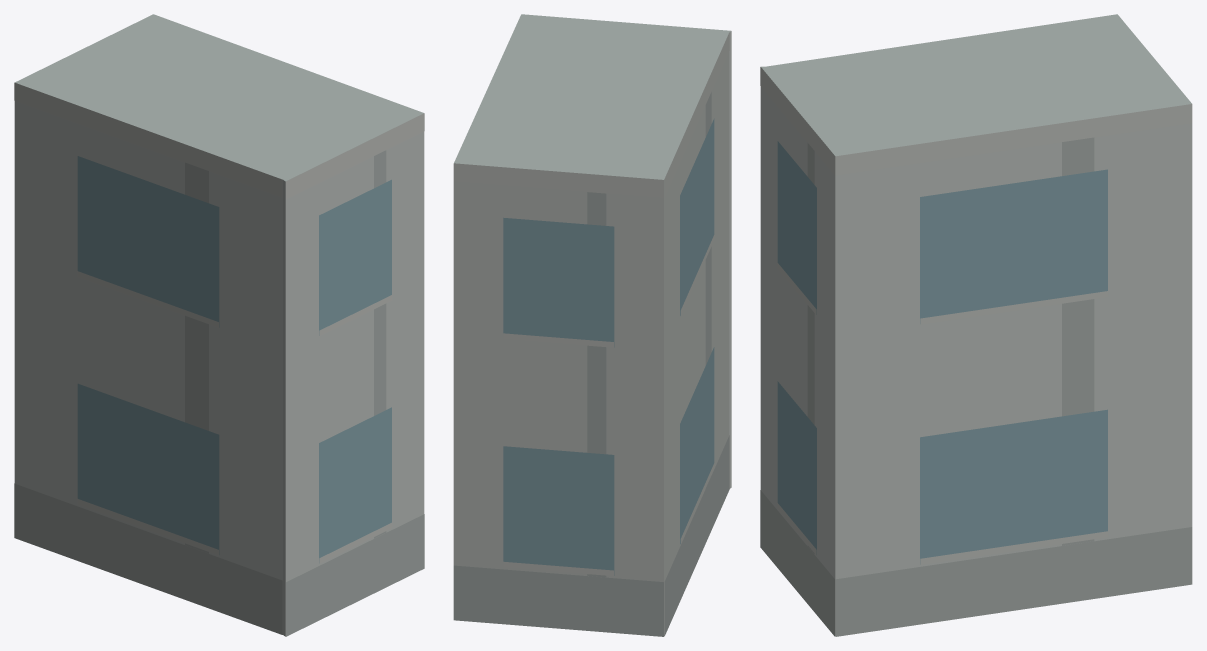
File: survey-upis-32709111.glb
The picture shows the model from 3 angles, left to right: view 1: azimuth 30°, elevation 25°; view 2: azimuth 150°, elevation 25°; view 3: azimuth 270°, elevation 25°; orthographic projection. The views are drawn at different scales.
Parts seen in each view (by area): view 1: survey-upis-32709111.tmp; view 2: survey-upis-32709111.tmp; view 3: survey-upis-32709111.tmp.
Boxes of the visible parts, x1,y1,x2,y2 form: survey-upis-32709111.tmp: (14,14,424,636); survey-upis-32709111.tmp: (453,14,731,636); survey-upis-32709111.tmp: (760,14,1192,636).
Size of the model in its own units: 3.88 by 6.1 by 4.98.
